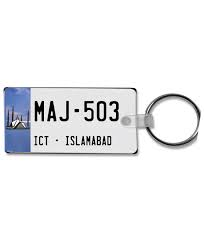plate: (2, 84, 141, 158)
